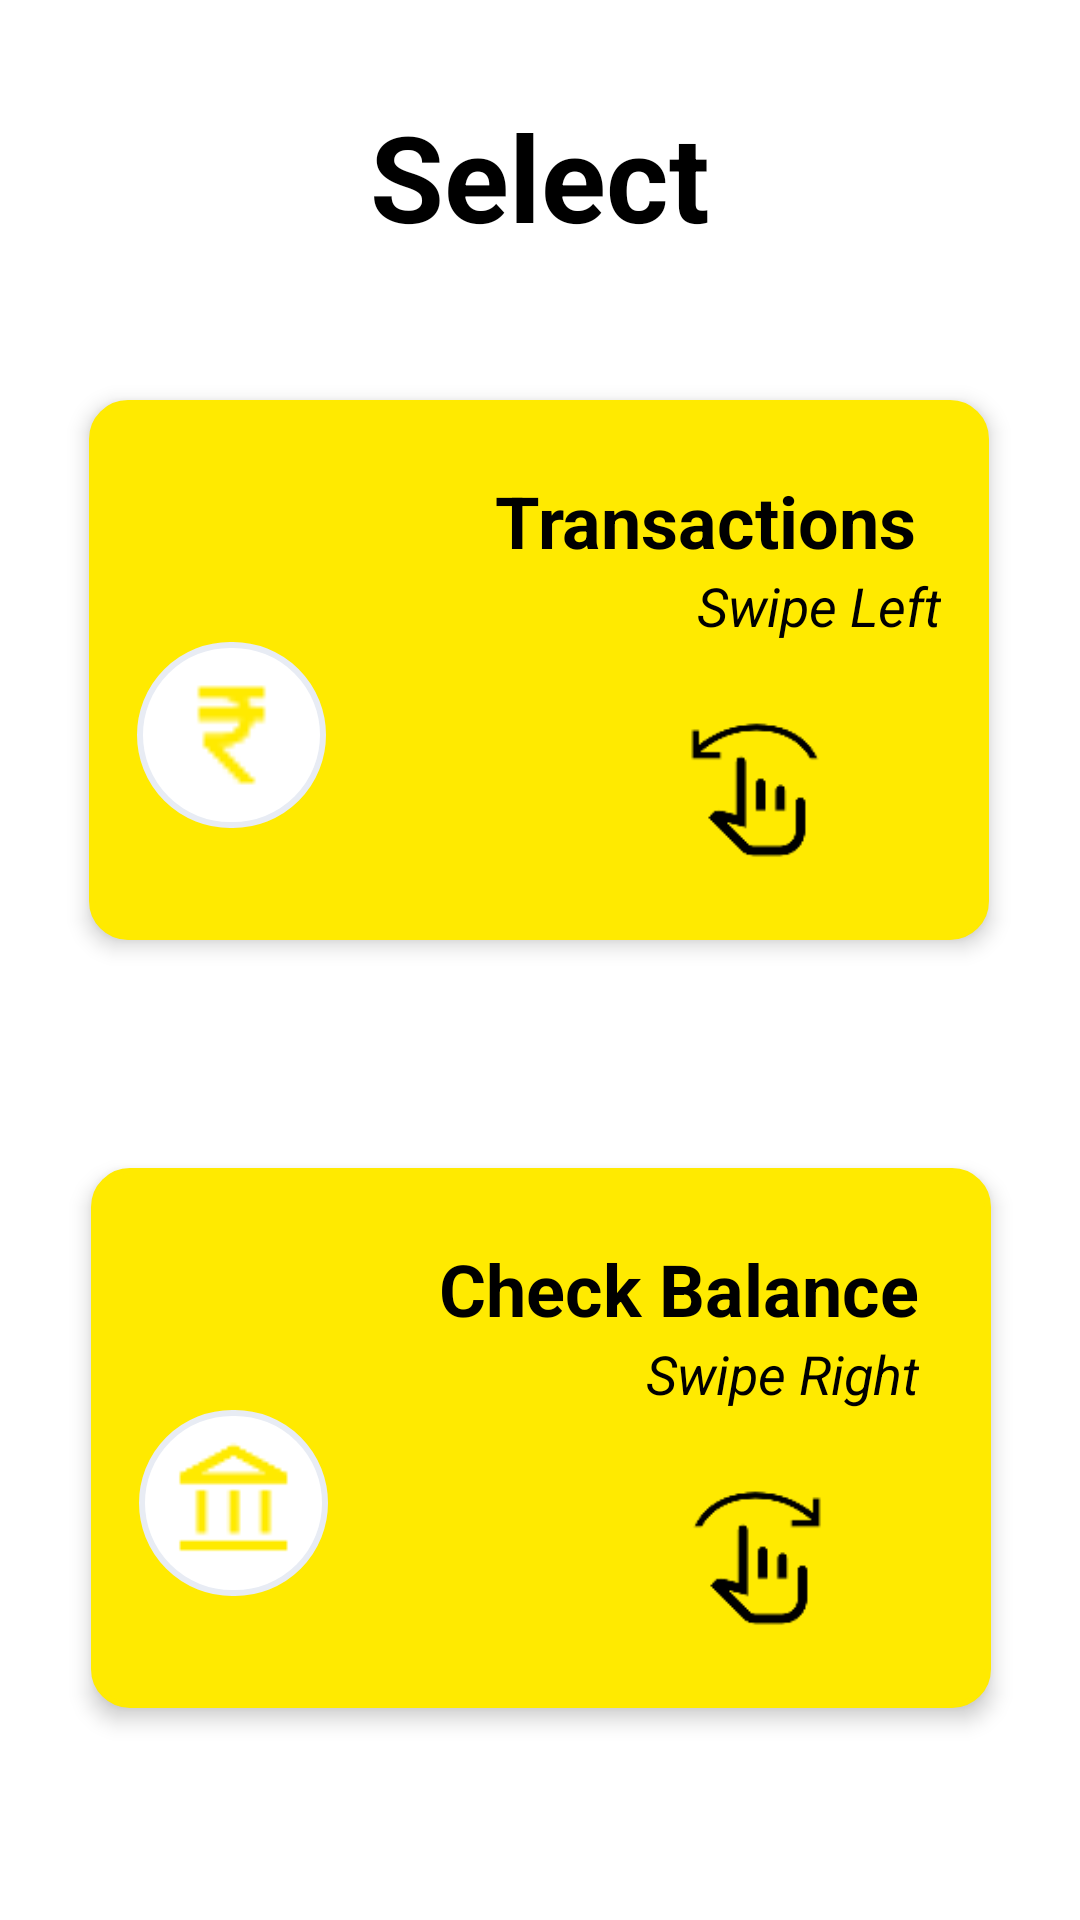

Screen size 1080 x 1920. Icon name, then its box in pixels as BBox(x1, y1, x2, y2):
currenc: BBox(137, 642, 326, 828)
